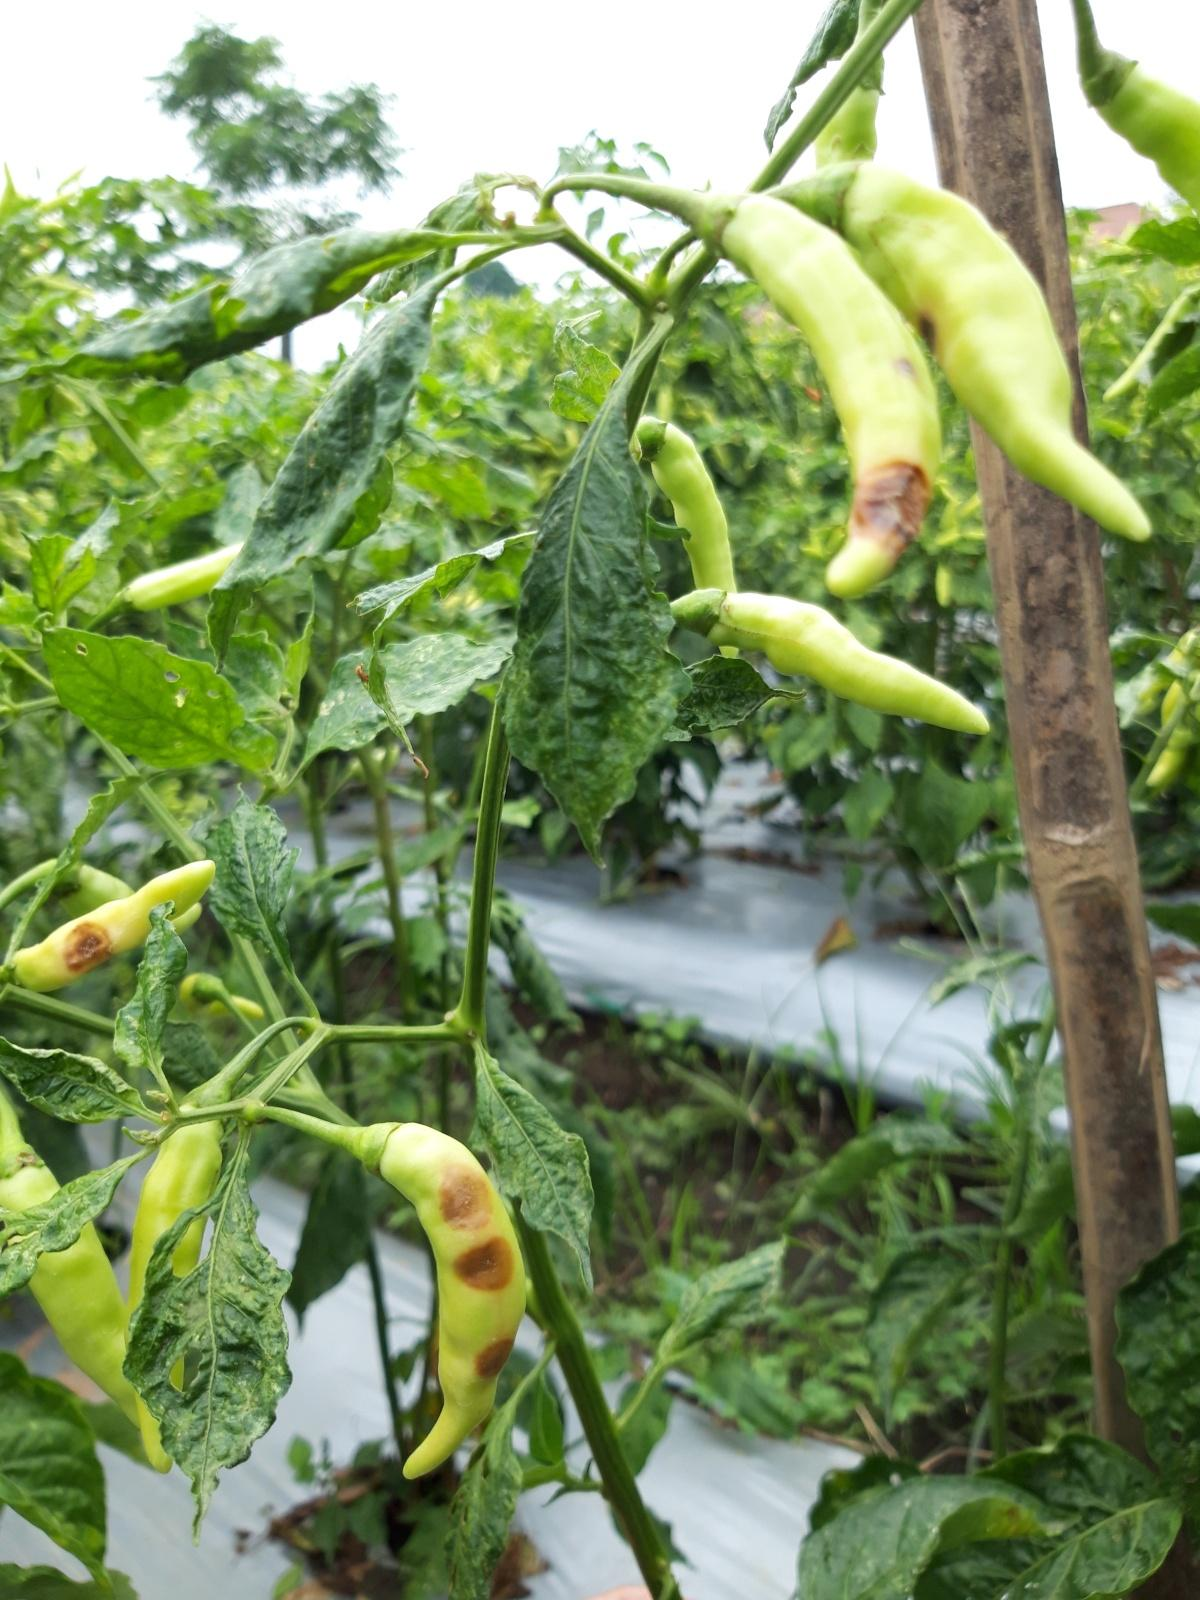cabai_normal: (669, 585, 992, 734), (0, 1144, 144, 1430), (1078, 50, 1200, 204), (633, 418, 736, 590)
lalat_buah: (809, 163, 1153, 542), (697, 191, 940, 596), (361, 1121, 524, 1480), (0, 859, 217, 993)
